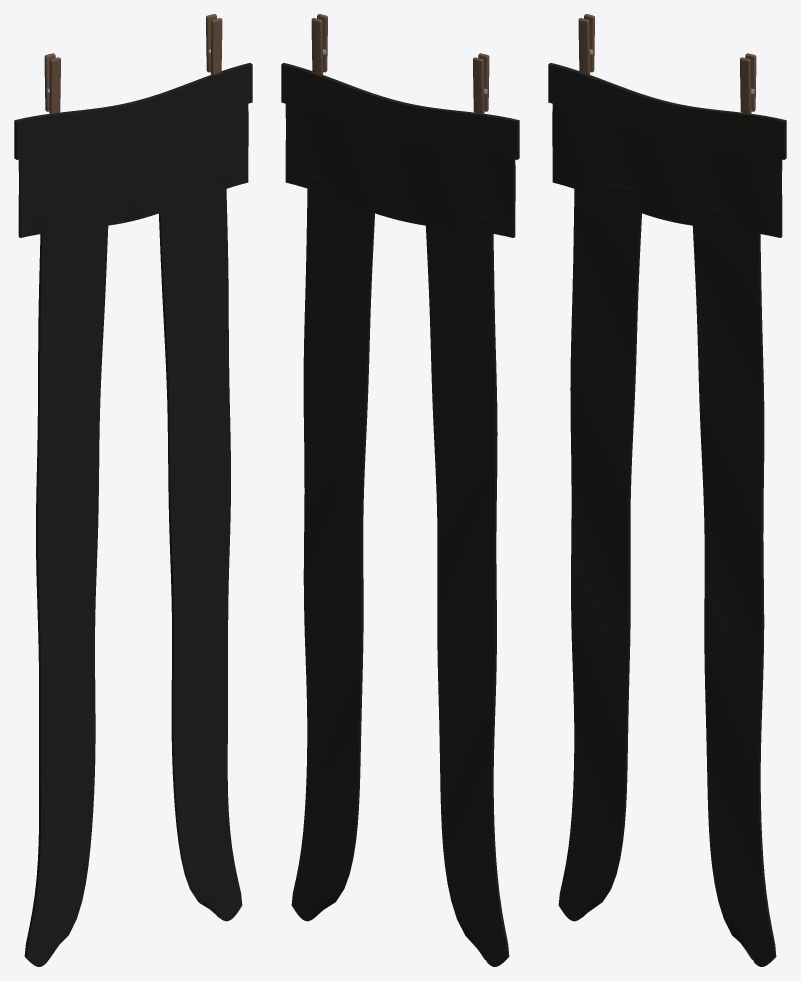
The model's file is tights-line-vibe-642180738bfe.glb.
3 renders of one model, left to right at view 1: azimuth 30°, elevation 25°; view 2: azimuth 150°, elevation 25°; view 3: azimuth 330°, elevation 25°, orthographic.
Visible parts, largest first — view 1: rubber, wood; view 2: rubber, wood; view 3: rubber, wood.
Boxes of the visible parts, x1=… form: rubber: x1=14, y1=63, x2=252, y2=966; wood: x1=44, y1=14, x2=222, y2=114; rubber: x1=281, y1=63, x2=519, y2=966; wood: x1=311, y1=14, x2=489, y2=114; rubber: x1=548, y1=63, x2=786, y2=966; wood: x1=578, y1=14, x2=756, y2=114.
Size of the model in its own units: 0.24 by 0.881 by 0.014.
